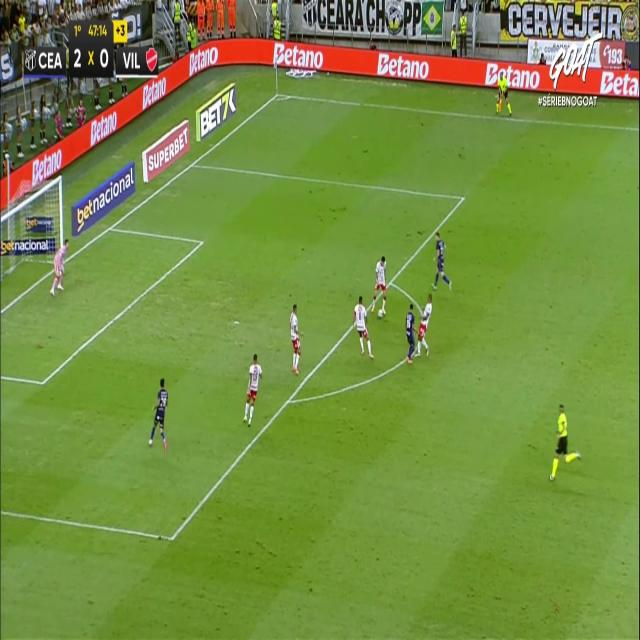ball: (377, 307, 386, 323)
goalkeeper: (49, 237, 69, 296)
player: (243, 352, 263, 427), (148, 377, 168, 452), (352, 295, 374, 358), (431, 231, 451, 291), (414, 294, 432, 357), (371, 255, 387, 317), (290, 303, 302, 374), (405, 302, 415, 364)
referee: (549, 404, 581, 482), (495, 70, 511, 117)
